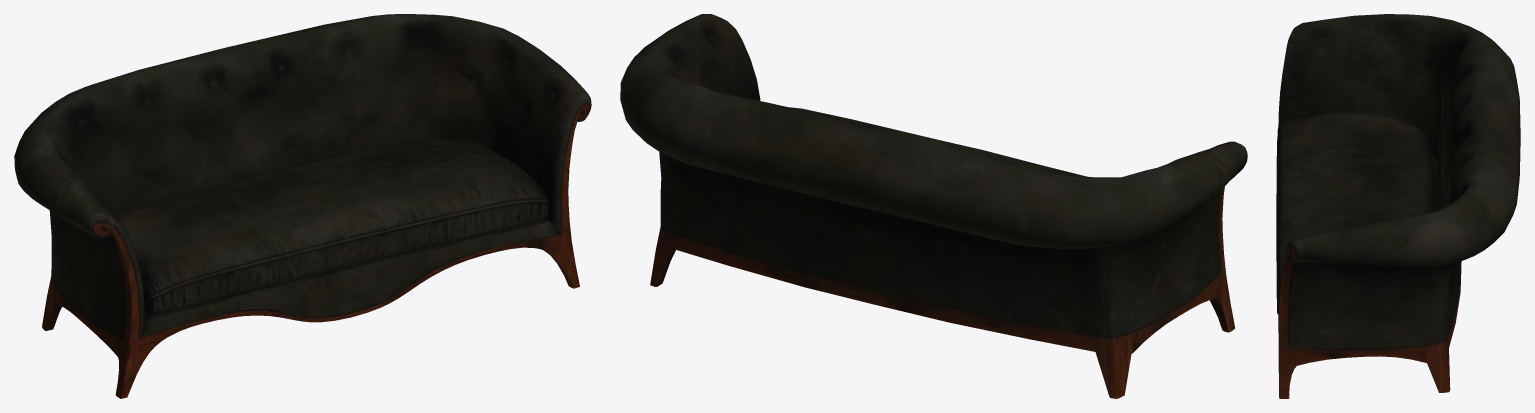
File: sofa.glb
The picture shows the model from 3 angles, left to right: view 1: azimuth 30°, elevation 25°; view 2: azimuth 150°, elevation 25°; view 3: azimuth 270°, elevation 25°; orthographic projection. The views are drawn at different scales.
Visible parts, largest first — view 1: cushion, legs; view 2: cushion, legs; view 3: cushion, legs.
Part boxes in pixels (x1,y1,x2,y2): cushion: (14, 14, 591, 348); legs: (42, 103, 590, 398); cushion: (620, 14, 1247, 353); legs: (650, 227, 1235, 398); cushion: (1276, 14, 1520, 362); legs: (1278, 245, 1455, 398).
Bounding box in the file's own units: 1.81 × 0.7095 × 0.8176.
1 material, 1 textured.
